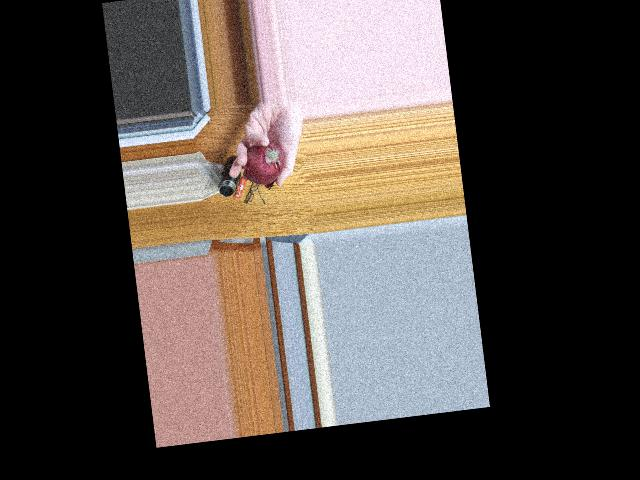onion: (242, 139, 288, 186)
